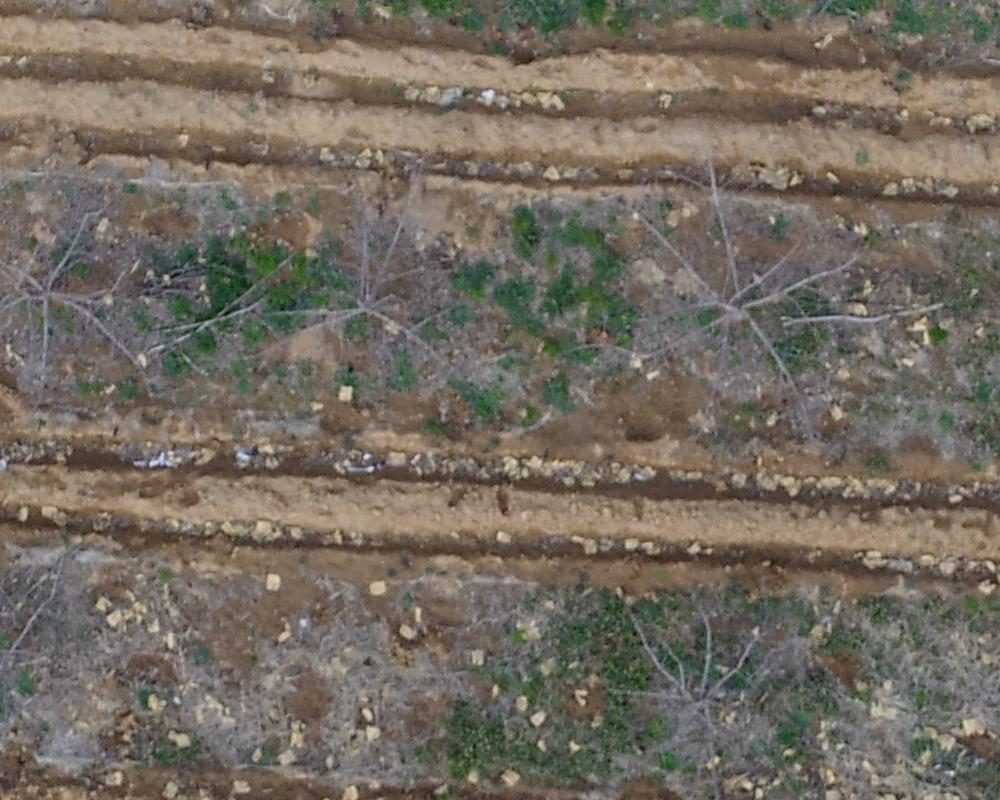apple: (596, 153, 893, 440), (242, 183, 469, 387), (569, 582, 776, 770), (10, 201, 148, 392), (10, 558, 98, 740)
